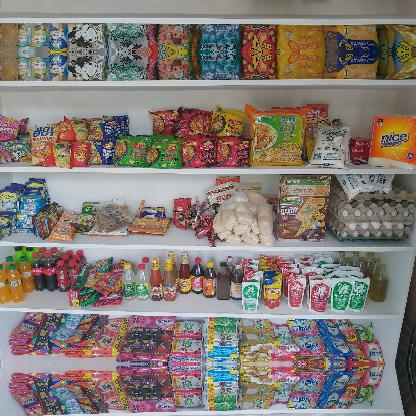Koko-Krunch: (275, 171, 332, 244)
